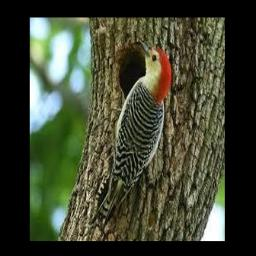Woodpecker: (88, 39, 171, 235)
